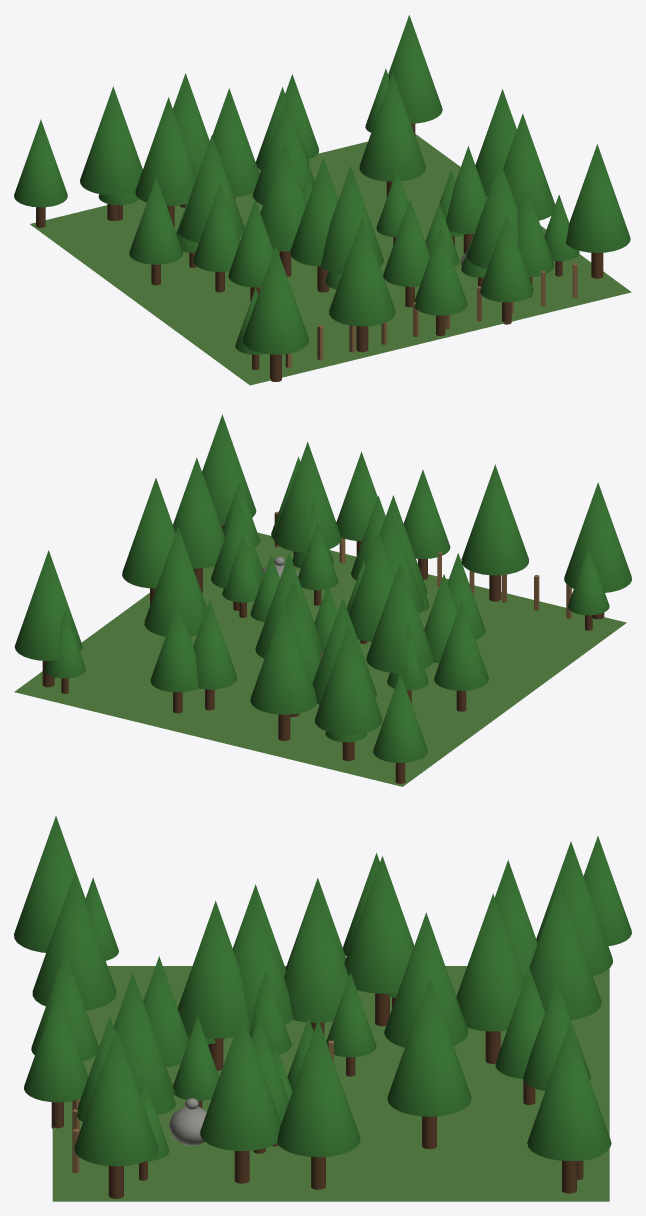
The model's file is gen_forest_glade.glb.
3 renders of one model, top to bottom at view 1: azimuth 30°, elevation 25°; view 2: azimuth 150°, elevation 25°; view 3: azimuth 270°, elevation 25°, orthographic. The views are drawn at different scales.
Visible parts, largest first — view 1: Plane, tree_018, tree_004, tree_033, tree_025, tree_029, tree_011, tree_035, tree_021, tree_020, tree_022, tree_036 (+21 smaller); view 2: Plane, tree_018, tree_008, tree_025, tree_019, tree_021, tree_027, tree_029, tree_004, tree_037, tree_013, tree_036 (+24 smaller); view 3: Plane, tree_029, tree_033, tree_013, tree_021, tree_037, tree_019, tree_000, tree_031, tree_035, tree_018, tree_008 (+24 smaller).
Boxes of the visible parts, x1,y1,x2,y2 form: Plane: (30,134,631,385); tree_018: (329,217,395,352); tree_004: (242,246,308,381); tree_033: (566,144,630,278); tree_025: (80,86,142,220); tree_029: (359,73,425,197); tree_011: (135,97,196,227); tree_035: (260,143,306,277); tree_021: (388,15,442,135); tree_020: (290,158,338,292); tree_022: (480,214,533,324); tree_036: (129,177,182,285); Plane: (14,532,626,786); tree_018: (461,464,528,601); tree_008: (250,604,316,740); tree_025: (314,624,382,760); tree_019: (366,562,433,689); tree_021: (14,550,82,687); tree_027: (273,442,341,552); tree_029: (144,527,206,636); tree_004: (564,482,631,619); tree_037: (173,457,225,592); tree_013: (122,478,175,605); tree_036: (434,601,488,711); Plane: (52,966,609,1201); tree_029: (387,979,471,1148); tree_033: (74,1028,158,1198); tree_013: (277,1019,360,1189); tree_021: (527,1023,611,1193); tree_037: (200,1013,281,1183); tree_019: (344,856,414,1026); tree_000: (177,901,249,1070); tree_031: (456,893,524,1063); tree_035: (284,885,348,1034); tree_018: (32,873,116,1010); tree_008: (529,883,601,1019).
Size of the model in its own units: 13.13 by 4.03 by 13.32.
1 material, 1 textured.
